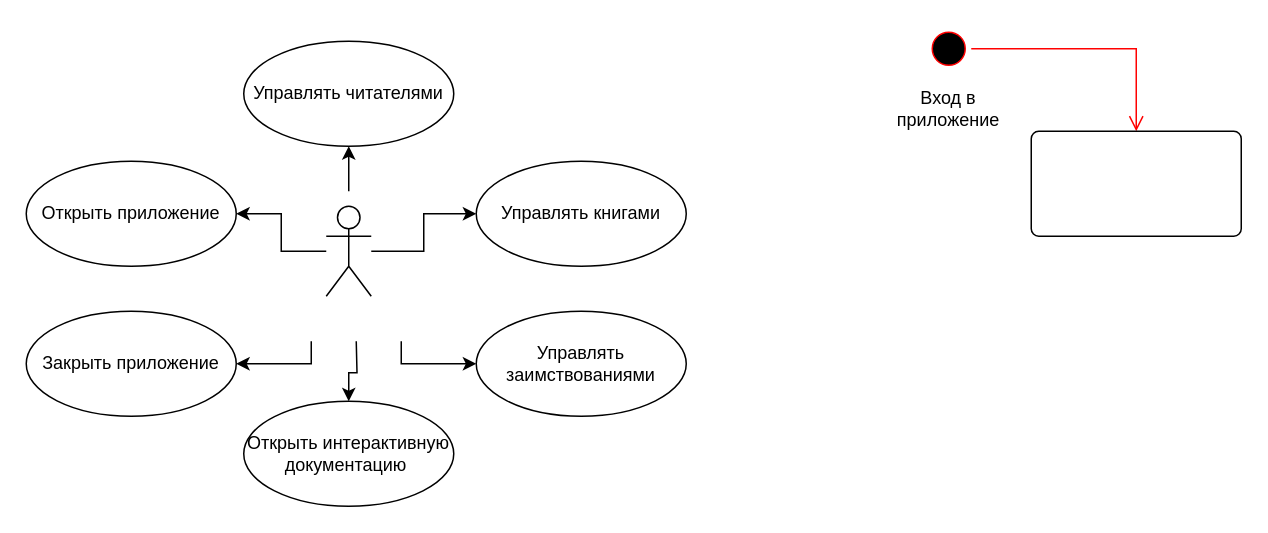
The diagram is 1268 pixels wide and 533 high, and some of its shapes have lost their labels. Here are the shapes that lost their labels. From the top down, the box of each, then its label:
(1030, 130, 1241, 236): Открытие интерактивной документации
(325, 205, 371, 296): Пользователь
